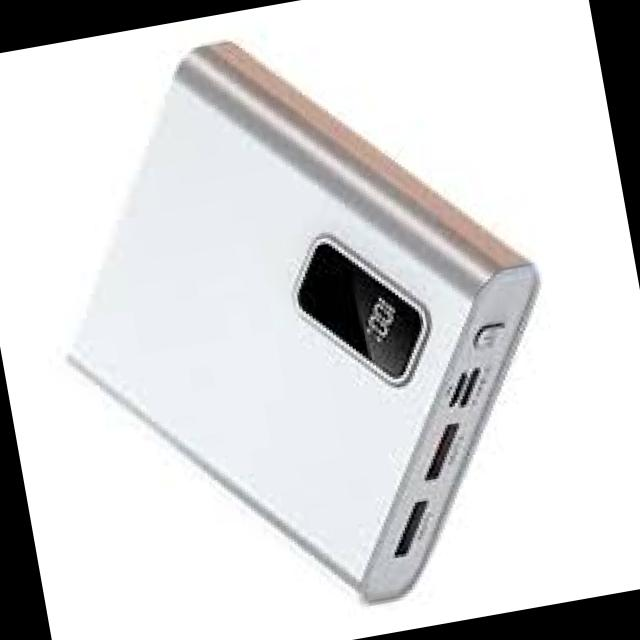portable-charger: (14, 0, 593, 640)
